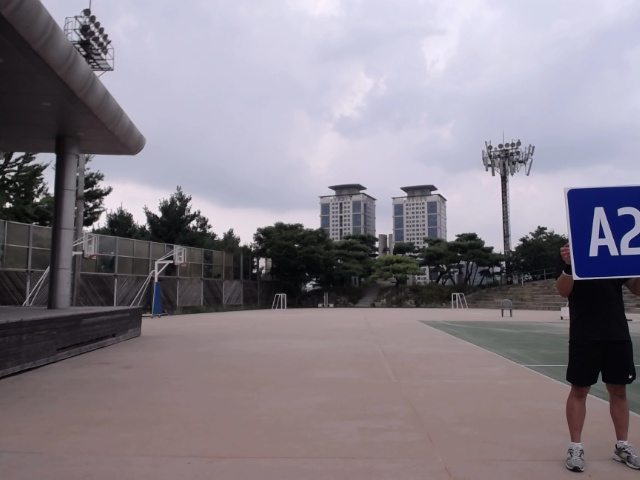delivery_a2: (568, 186, 639, 278)
